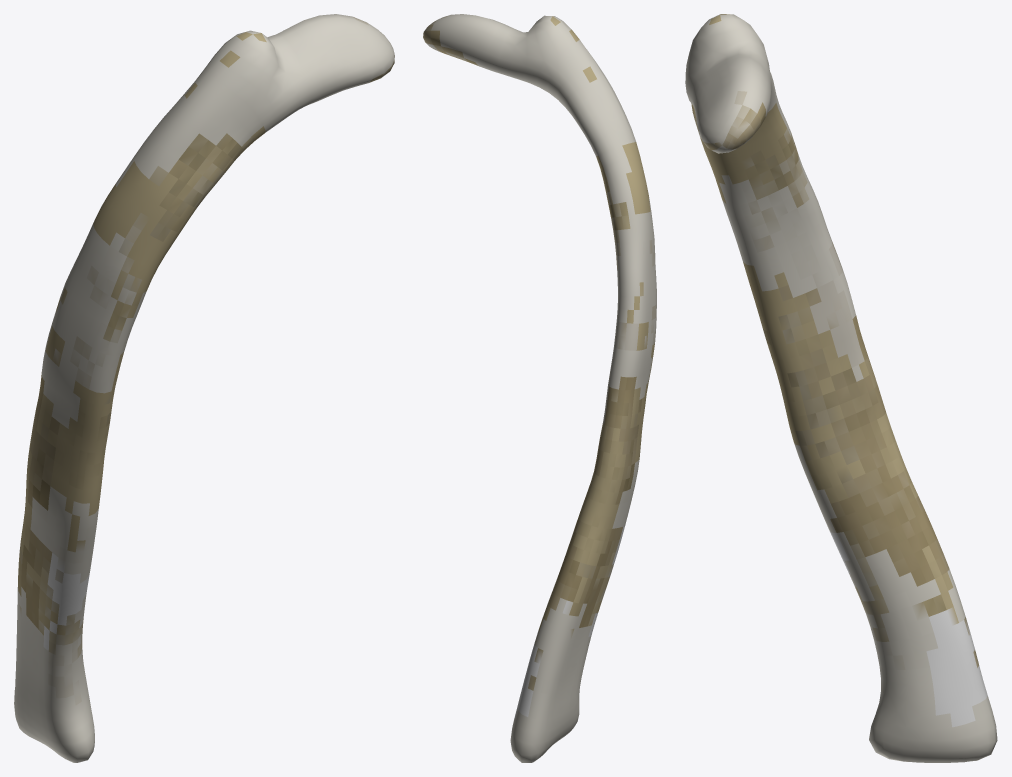
Rendered from Rib R02.fbx.
3 renders of one model, left to right at view 1: azimuth 30°, elevation 25°; view 2: azimuth 150°, elevation 25°; view 3: azimuth 270°, elevation 25°, orthographic. The views are drawn at different scales.
Visible parts, largest first — view 1: Rib R02; view 2: Rib R02; view 3: Rib R02.
Boxes of the visible parts, left/top/right/bottom form: Rib R02: left=14, top=14, right=394, bottom=762; Rib R02: left=423, top=14, right=656, bottom=762; Rib R02: left=685, top=14, right=997, bottom=762.
Bounding box in the file's own units: 6.53 × 16.06 × 5.73.
